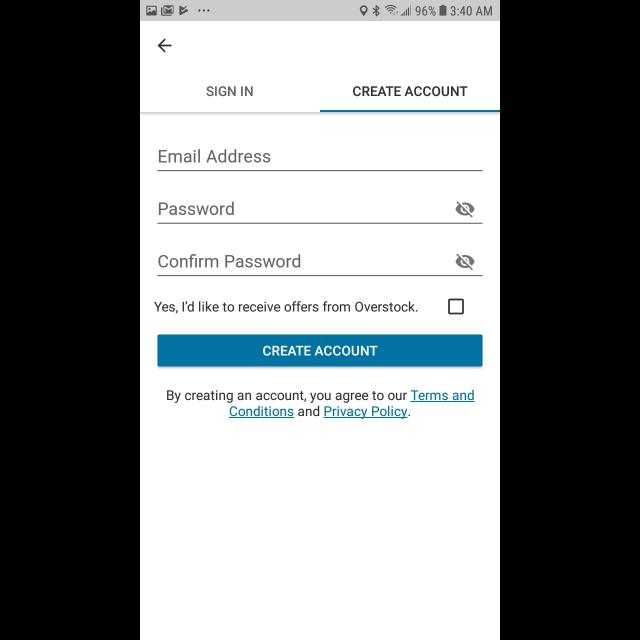checkbox: (448, 298, 464, 314)
icon: (455, 253, 475, 270), (455, 202, 475, 218), (158, 39, 172, 53)
input: (158, 148, 482, 172), (158, 255, 482, 278), (158, 202, 482, 224)
text: (167, 389, 475, 419), (154, 302, 418, 314), (159, 254, 301, 268), (159, 149, 271, 163), (352, 86, 468, 98), (160, 201, 234, 215), (206, 86, 254, 98)
textbutton: (158, 335, 482, 367)
uppertaskbar: (140, 1, 500, 22)
